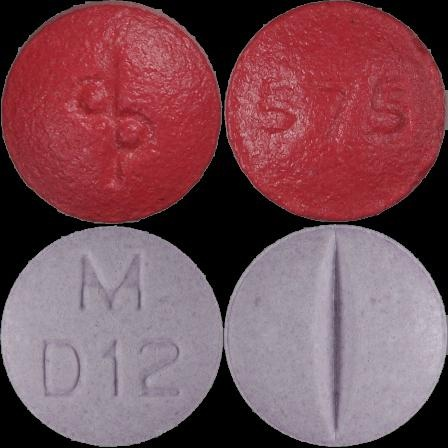54868-4754: (0, 0, 224, 224)
